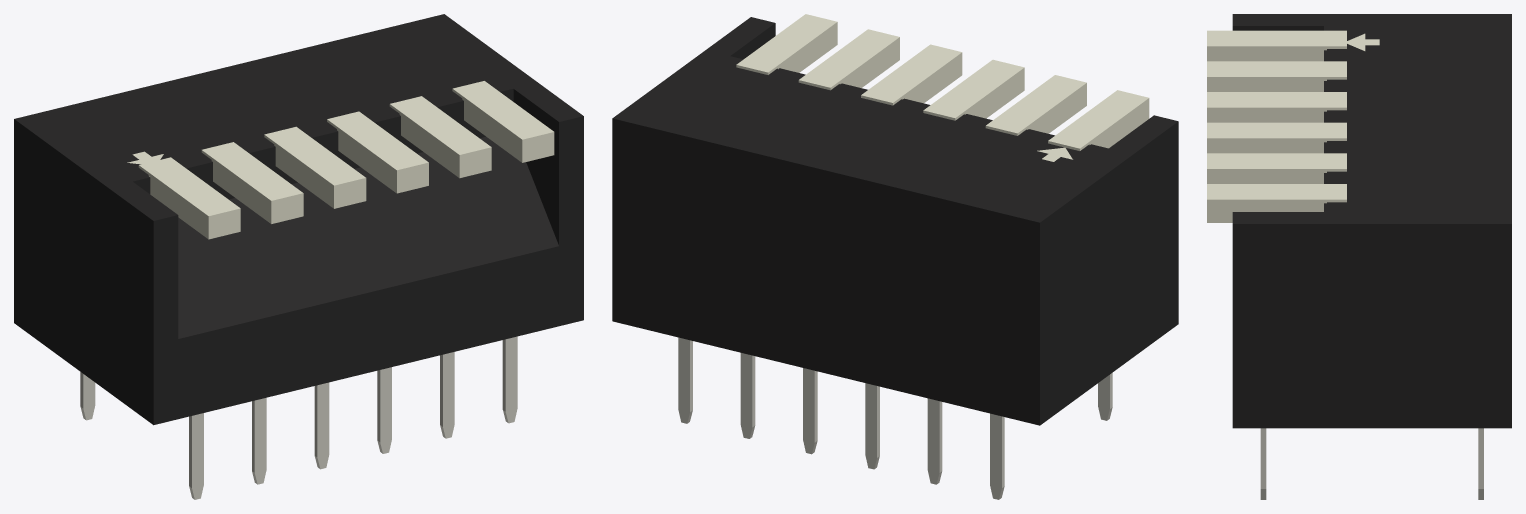
File: kc-sw_dip_spstx06_piano_cts_series194-6mstn_w7.62mm_p2.54mm.glb
3 views of the same model, side by side, from view 1: azimuth 30°, elevation 25°; view 2: azimuth 150°, elevation 25°; view 3: azimuth 270°, elevation 25° (orthographic).
Parts seen in each view (by area): view 1: 0_0_0_0, 0.75_0.75_0.6666666666666666_0, 0.6666666666666666_0.6666666666666666_0.5833333333333334_0.8; view 2: 0_0_0_0, 0.75_0.75_0.6666666666666666_0, 0.6666666666666666_0.6666666666666666_0.5833333333333334_0.8; view 3: 0_0_0_0, 0.75_0.75_0.6666666666666666_0, 0.6666666666666666_0.6666666666666666_0.5833333333333334_0.8.
Part boxes in pixels (bbox=[...]): 0_0_0_0: bbox=[14, 14, 583, 425]; 0.75_0.75_0.6666666666666666_0: bbox=[127, 81, 554, 239]; 0.6666666666666666_0.6666666666666666_0.5833333333333334_0.8: bbox=[80, 336, 517, 499]; 0_0_0_0: bbox=[612, 17, 1178, 425]; 0.75_0.75_0.6666666666666666_0: bbox=[736, 14, 1149, 161]; 0.6666666666666666_0.6666666666666666_0.5833333333333334_0.8: bbox=[678, 337, 1112, 499]; 0_0_0_0: bbox=[1232, 14, 1511, 428]; 0.75_0.75_0.6666666666666666_0: bbox=[1207, 30, 1379, 222]; 0.6666666666666666_0.6666666666666666_0.5833333333333334_0.8: bbox=[1260, 428, 1483, 499].
Size of the model in its own units: 1.74 by 1.19 by 1.07.
